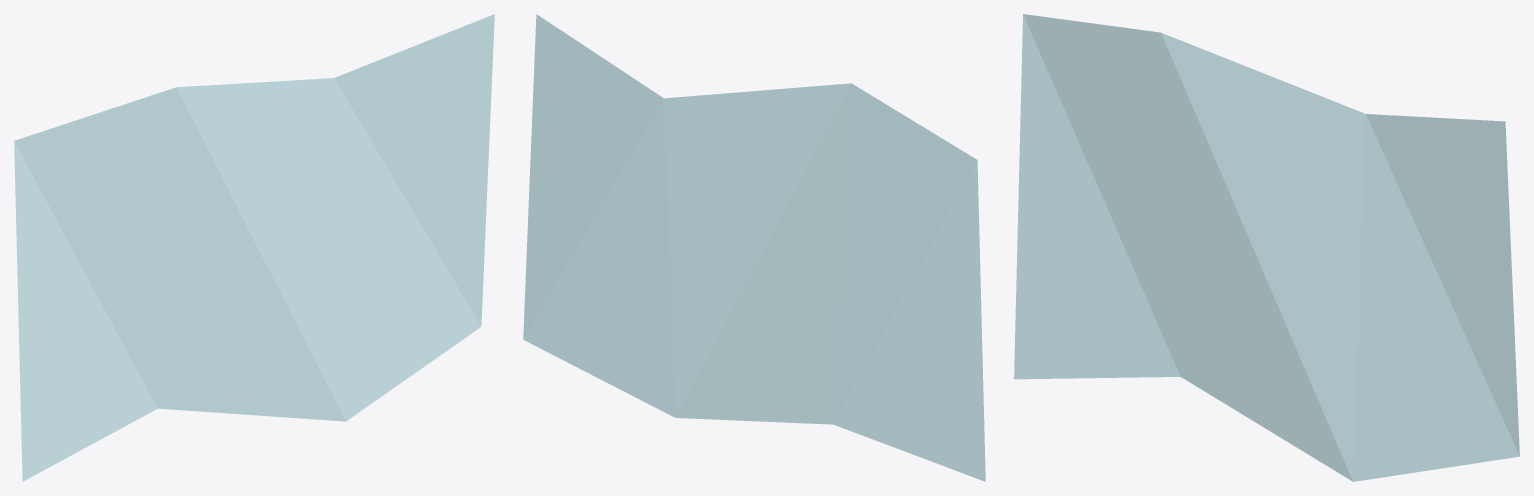
The model's file is fabric-divider.gltf.
The picture shows the model from 3 angles, left to right: view 1: azimuth 30°, elevation 25°; view 2: azimuth 150°, elevation 25°; view 3: azimuth 330°, elevation 25°; orthographic projection. The views are drawn at different scales.
Parts seen in each view (by area): view 1: Fabric Divider; view 2: Fabric Divider; view 3: Fabric Divider.
Part boxes in pixels (x1=…): Fabric Divider: x1=14, y1=14, x2=494, y2=481; Fabric Divider: x1=523, y1=14, x2=985, y2=481; Fabric Divider: x1=1014, y1=14, x2=1519, y2=481.
Bounding box in the file's own units: 1.6 × 1.25 × 0.11.
